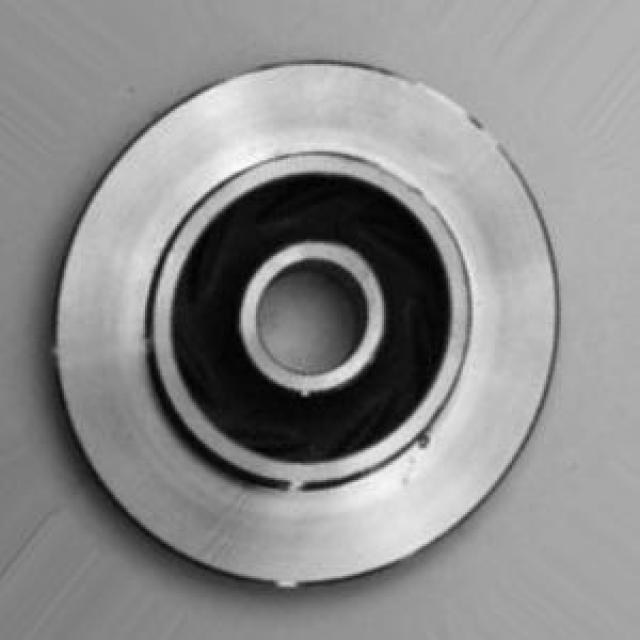Defect: (408, 431, 442, 456)
